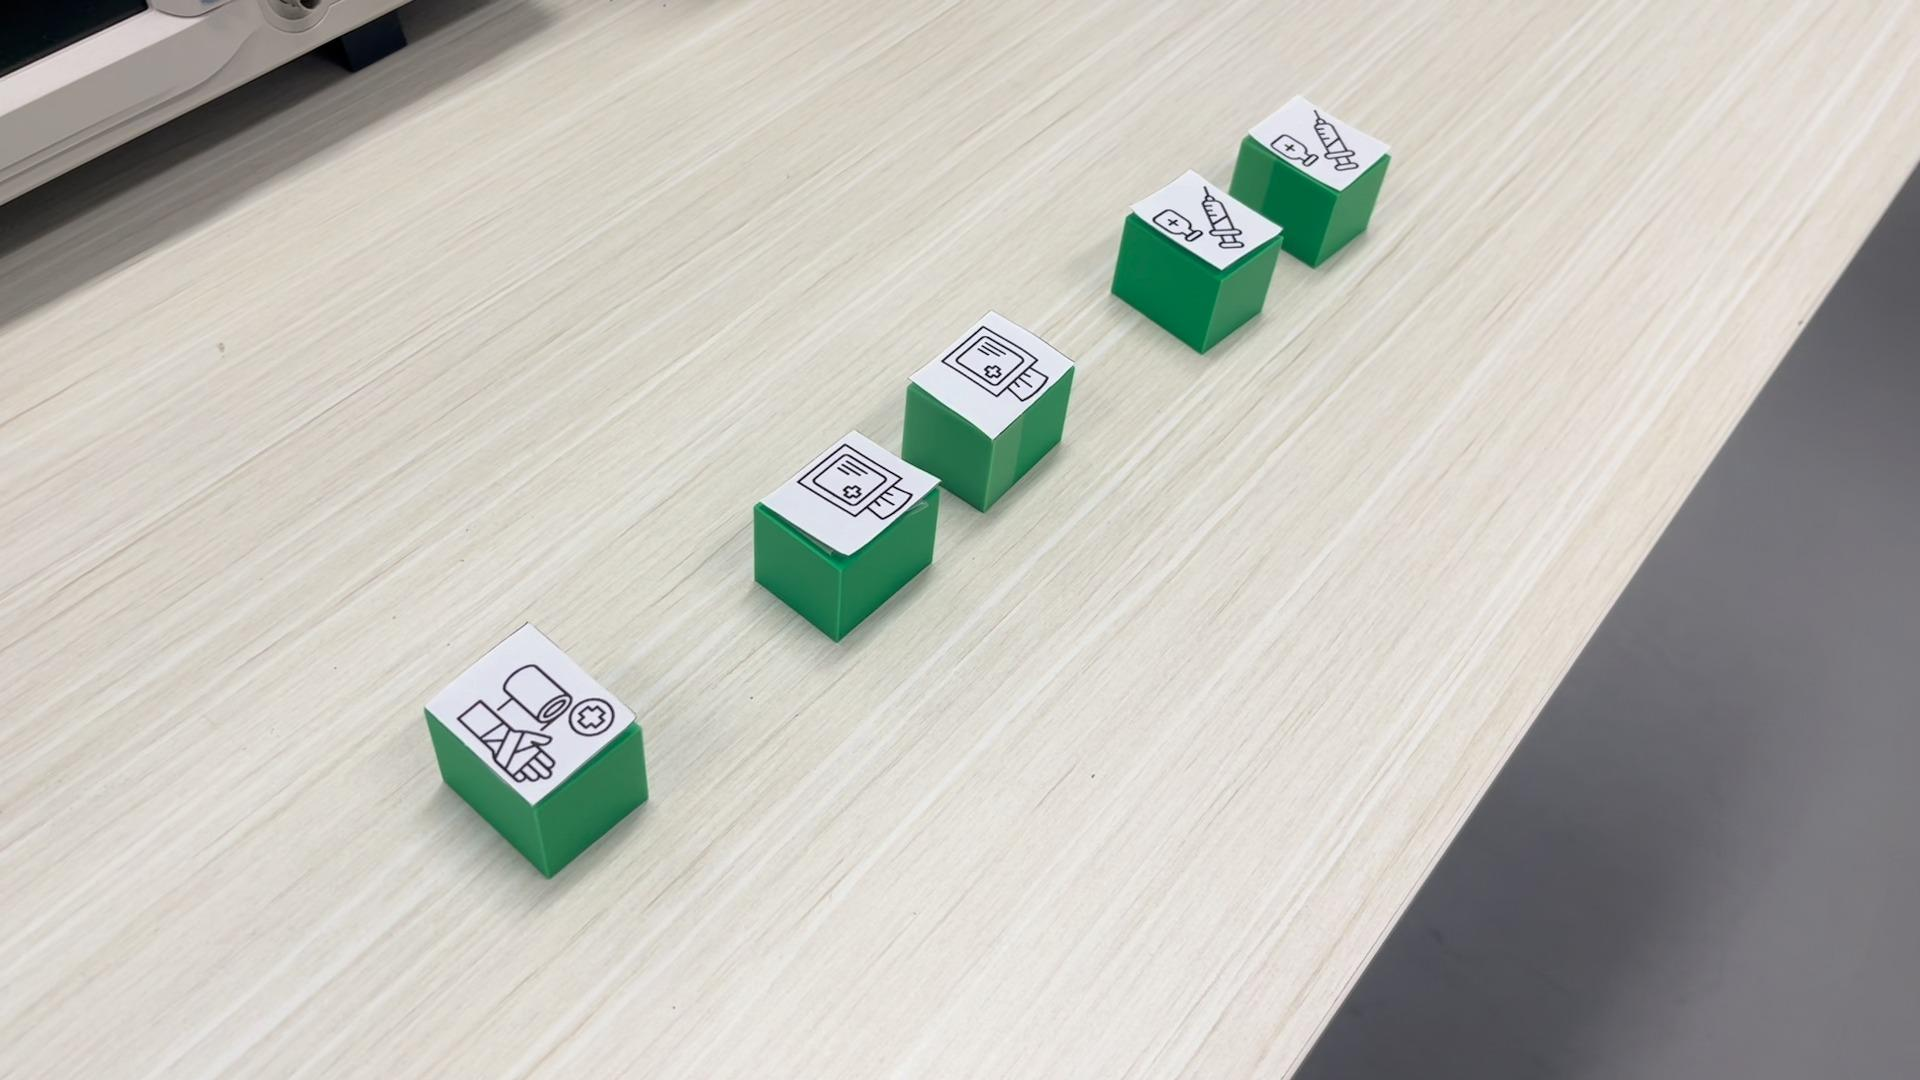Bandages: (419, 622, 649, 878)
Gauze: (750, 429, 939, 640), (905, 310, 1077, 512)
antiseptic cream: (1110, 169, 1286, 355), (1226, 92, 1393, 268)
